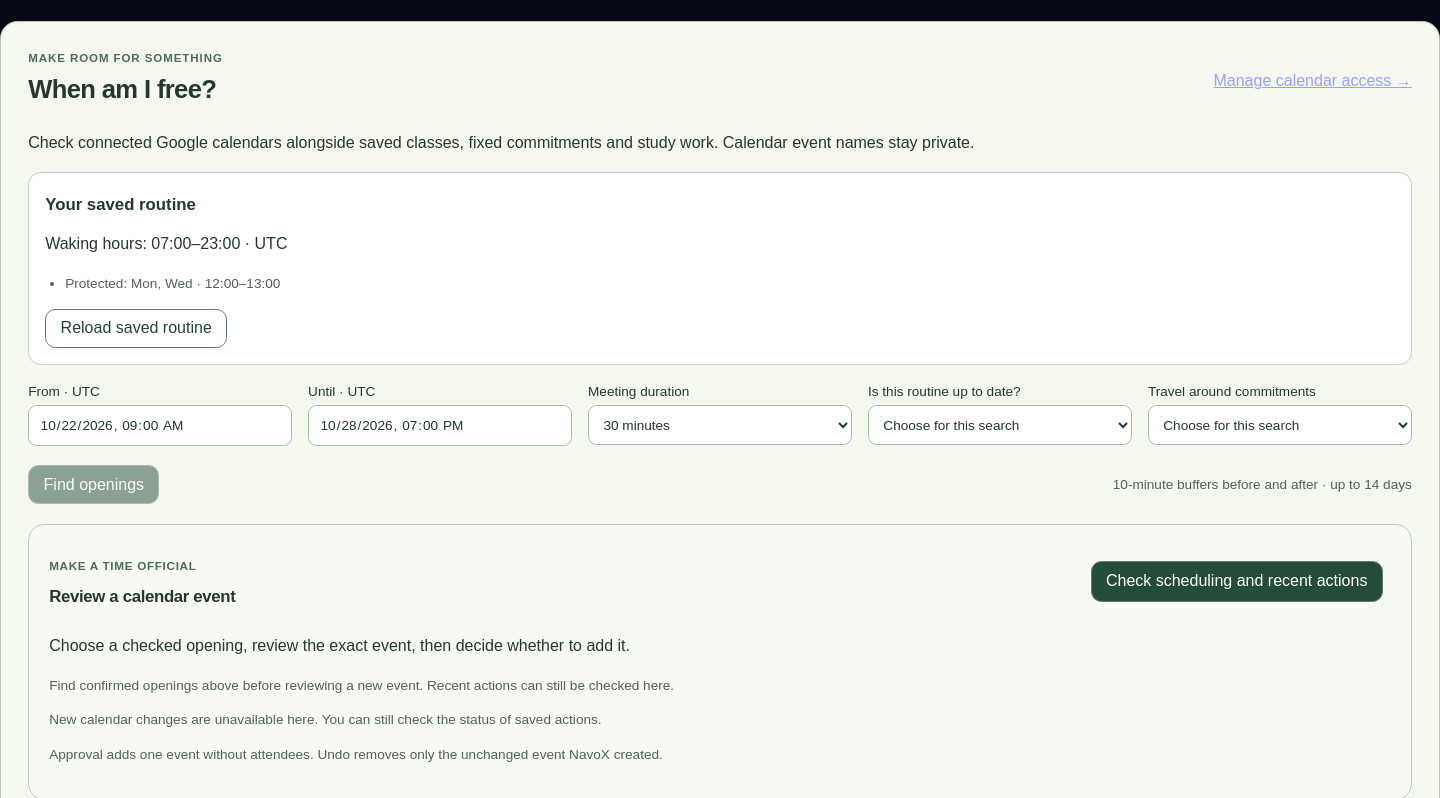
private calendar connection and availability screens › clears on calendar access changes and refuses a changed account proof around a response
Select "Yes, use these hours" in the dropdown labelled "Is this routine up to date?" at {"x": 1000, "y": 425}, box [868, 405, 1132, 445]
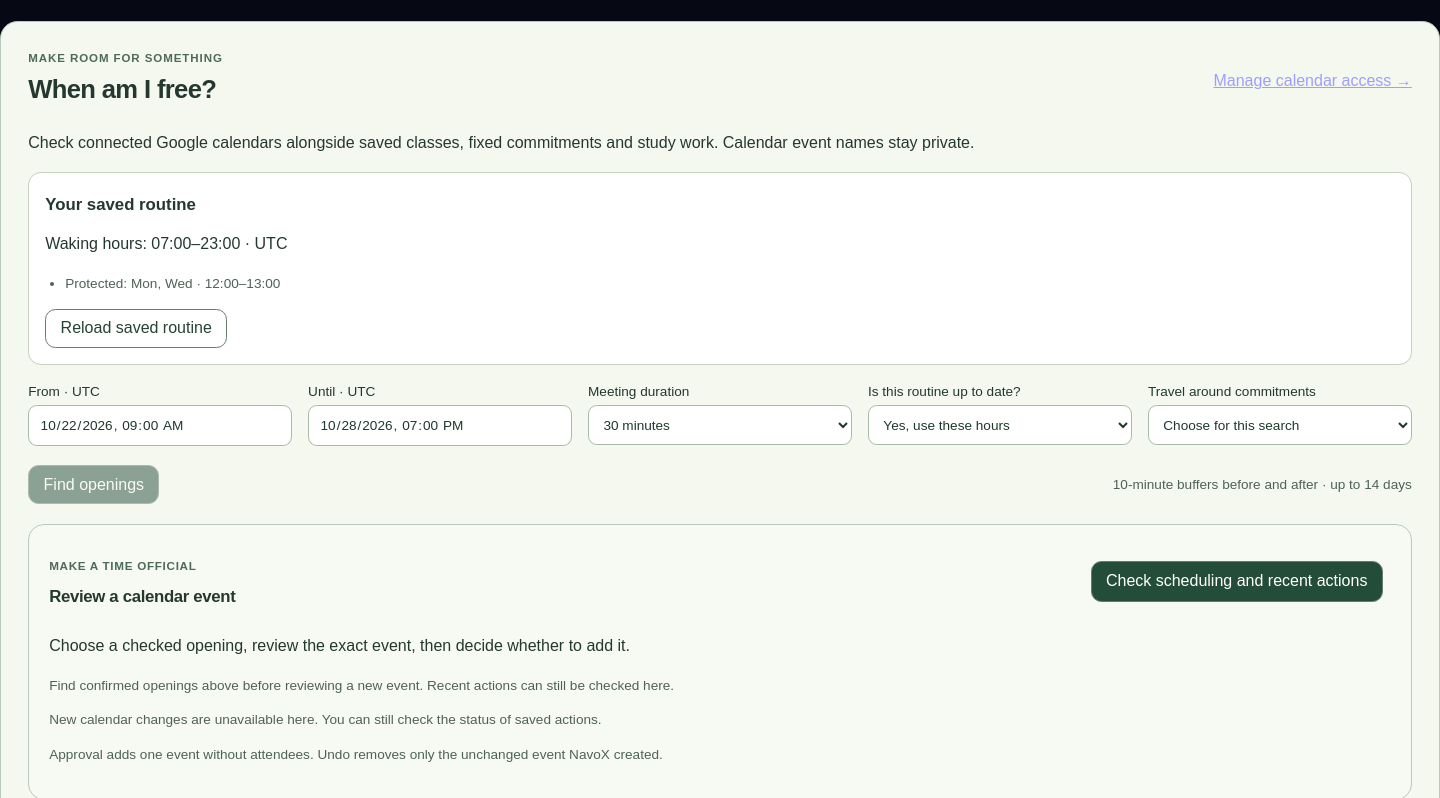
Select "Assume no extra travel for this search" in the dropdown labelled "Travel around commitments" at {"x": 1280, "y": 425}, box [1148, 405, 1412, 445]
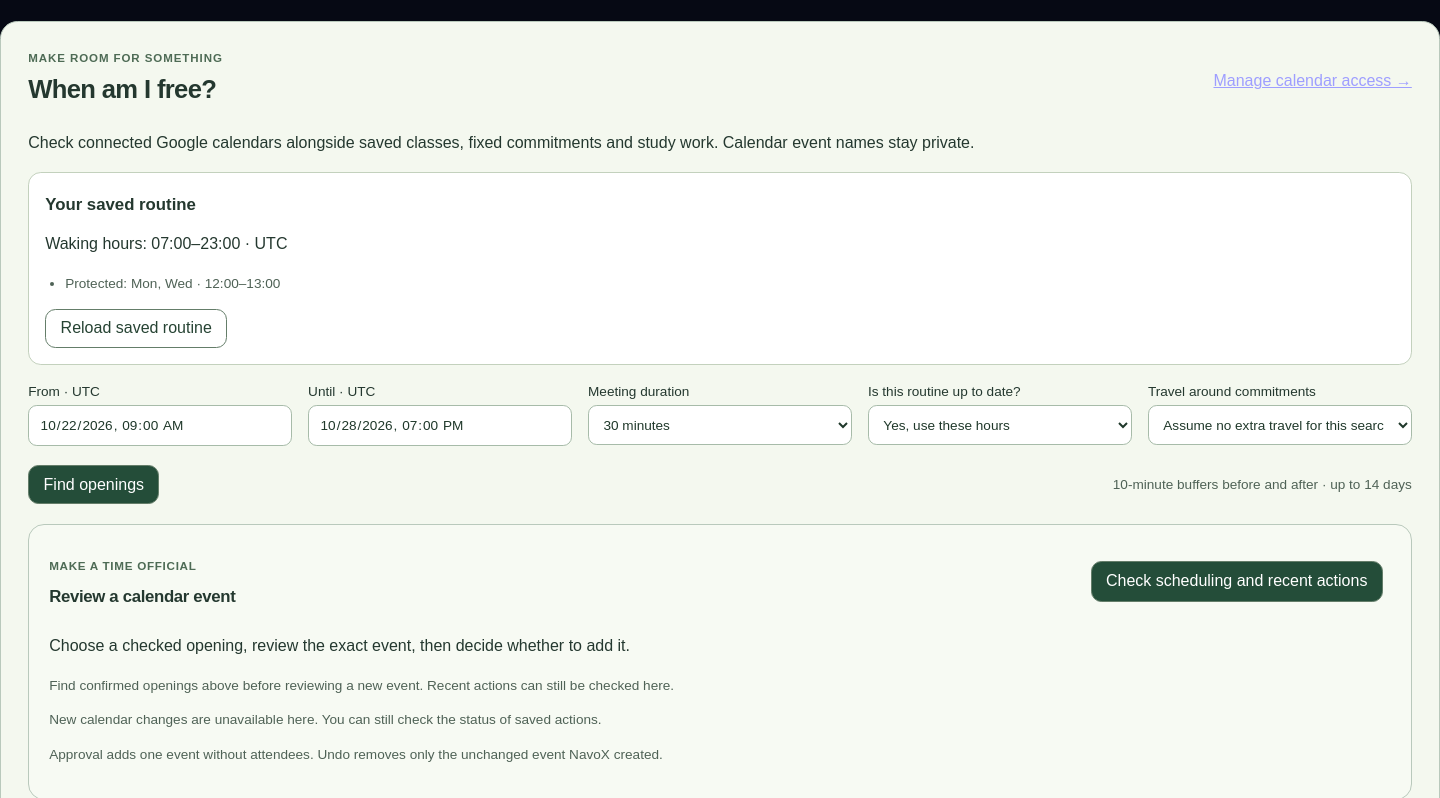
Click the button "Find openings" at {"x": 94, "y": 484}, box [28, 465, 160, 504]
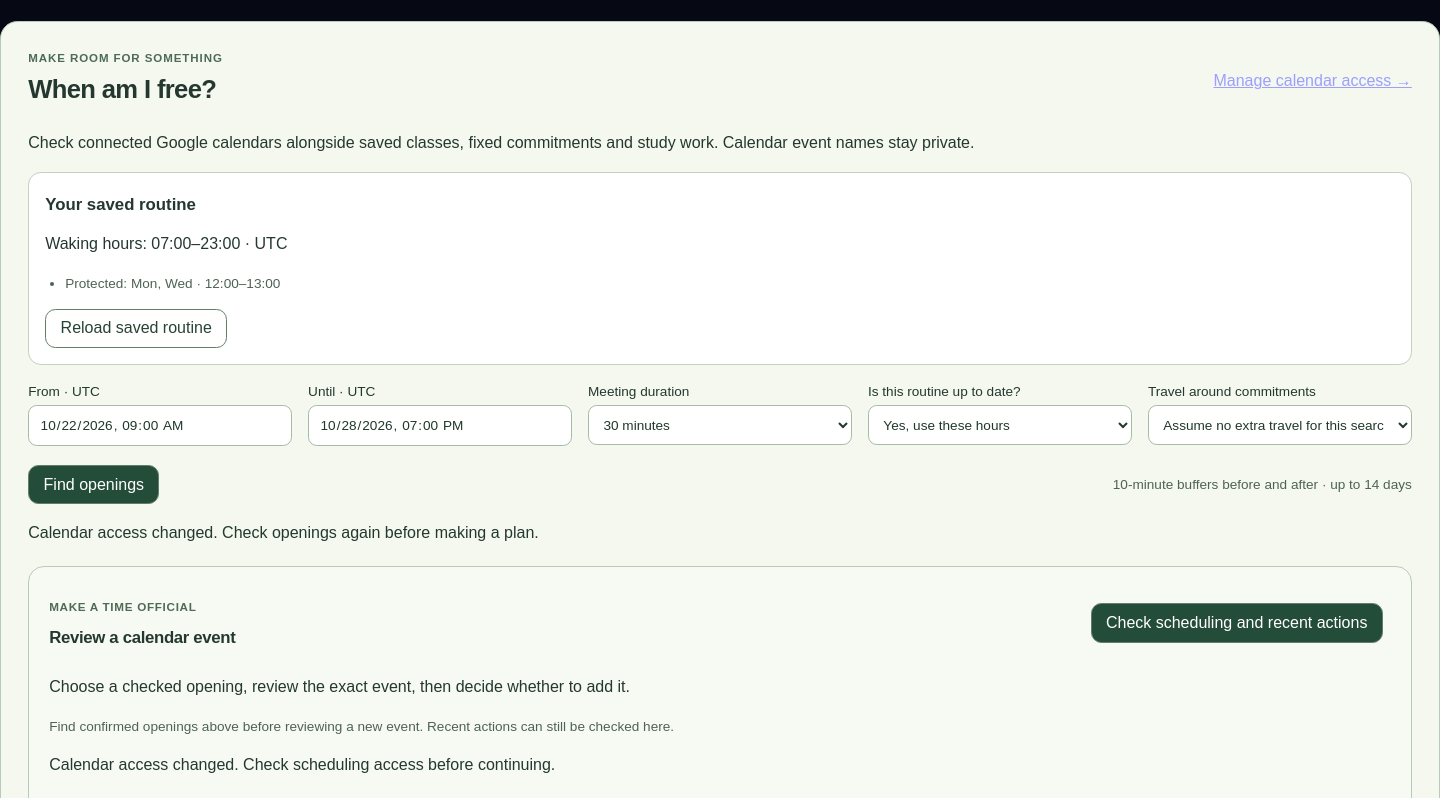
Expected: the text "Calendar access changed" is shown, [28, 524, 539, 541]
Click the button "Find openings" at {"x": 94, "y": 484}, box [28, 465, 160, 504]
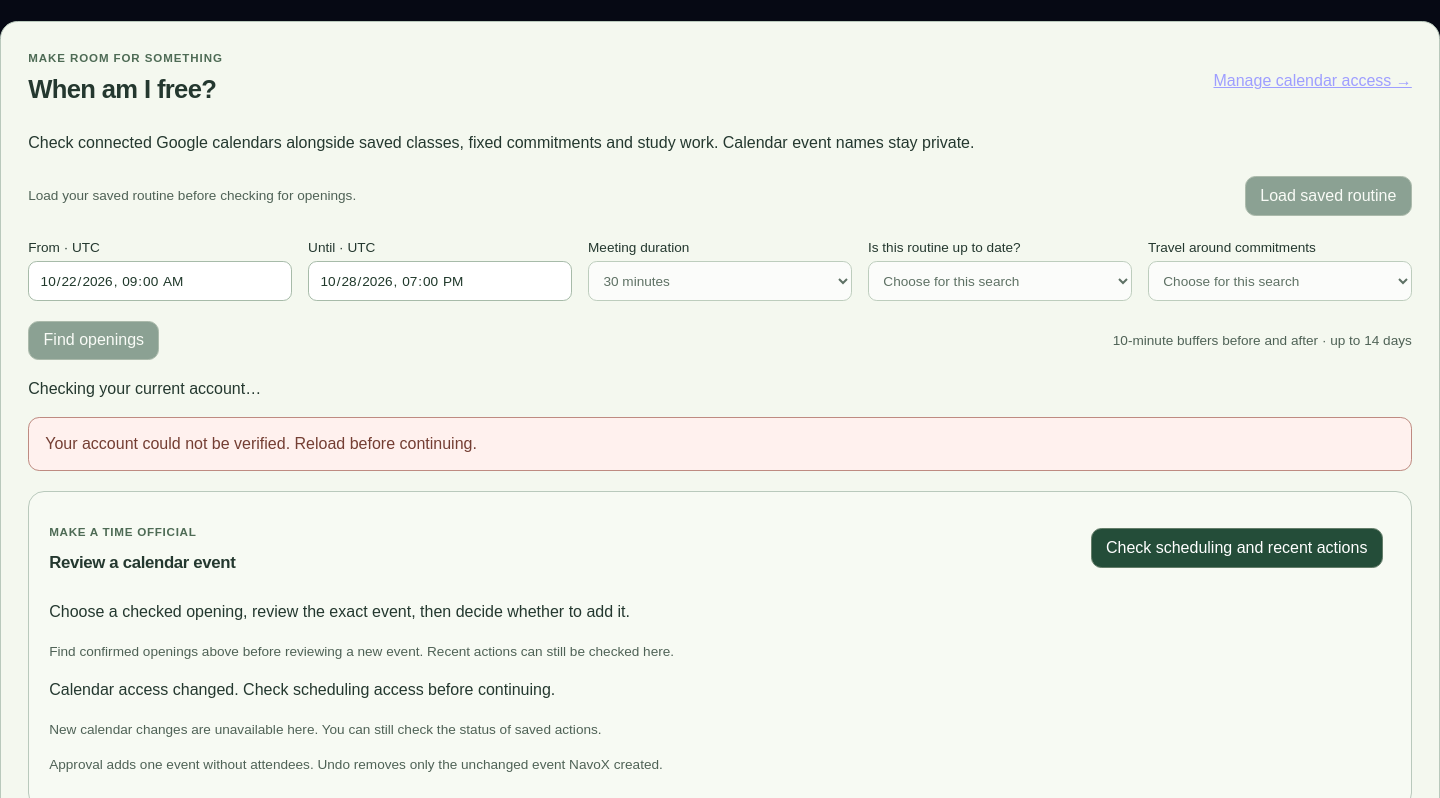
Expected: the text "Your saved routine" is not shown
Expected: the text "Your account could not be verified" is shown, [45, 435, 477, 452]
